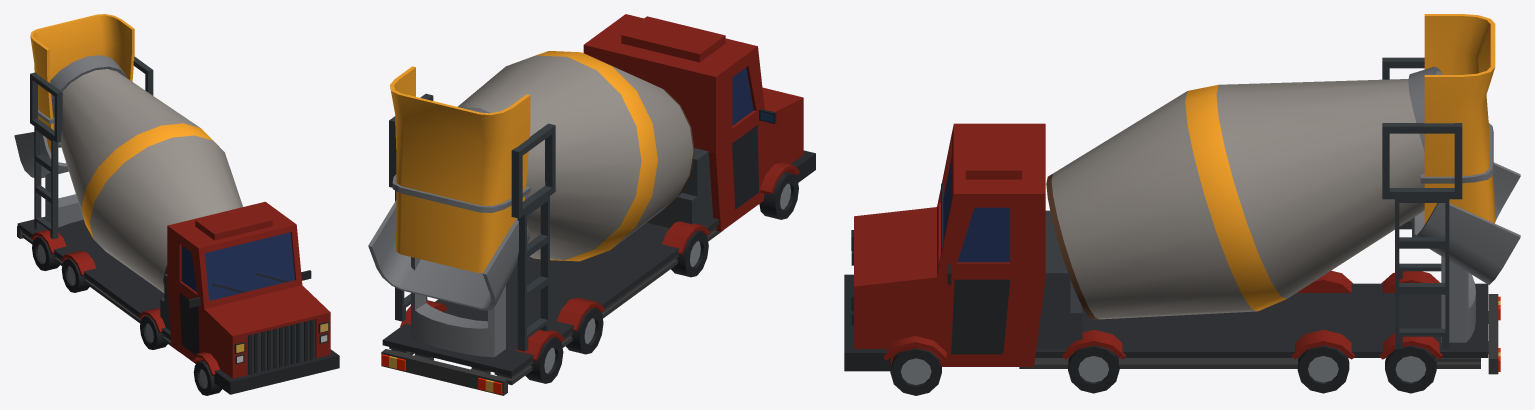
Rendered from CementTruck_1.fbx.
3 renders of one model, left to right at view 1: azimuth 30°, elevation 25°; view 2: azimuth 150°, elevation 25°; view 3: azimuth 270°, elevation 25°, orthographic. The views are drawn at different scales.
Visible parts, largest first — view 1: CementTruck_1; view 2: CementTruck_1; view 3: CementTruck_1.
Boxes of the visible parts, box(x1,y1,x2,y2) form: CementTruck_1: box(14, 14, 339, 395); CementTruck_1: box(368, 14, 815, 395); CementTruck_1: box(844, 14, 1520, 395).
Bounding box in the file's own units: 189 × 287 × 561.
